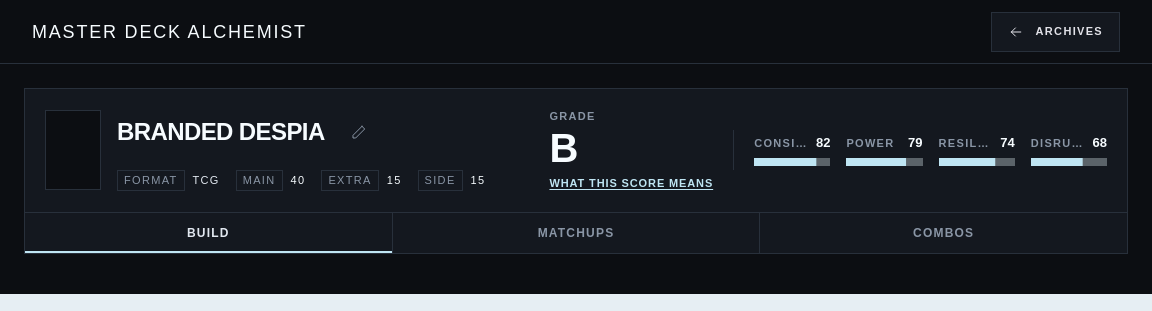
Scenario: WorkshopShell › commits a renamed deck on Enter and cancels on Escape
Click the button named "Edit deck name" at (359, 132), box x1=337 y1=110 x2=381 y2=154
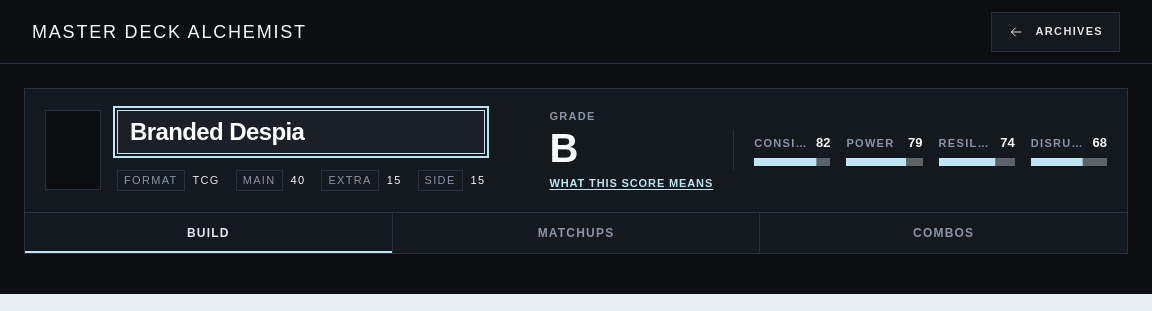
Replace the text in the field named "Deck name" with "Despia Endboard" at (301, 132), box x1=117 y1=110 x2=485 y2=154
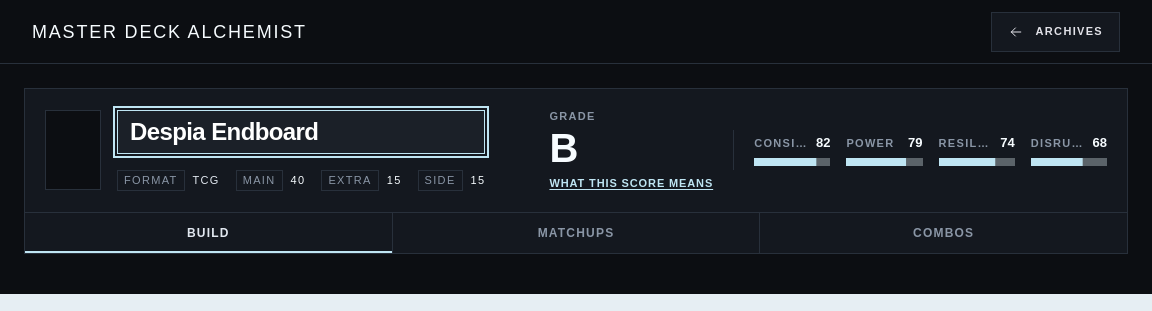
Press Enter in the field named "Deck name", box x1=117 y1=110 x2=485 y2=154
Leave the field named "Deck name", box x1=117 y1=110 x2=485 y2=154
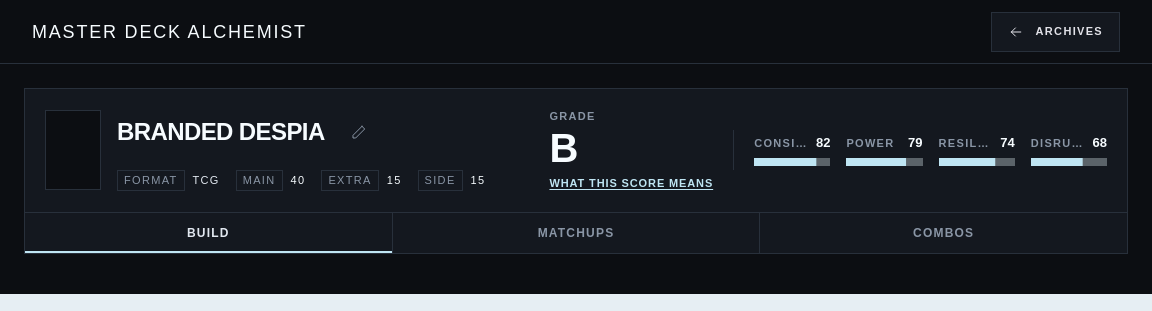
Click the button named "Edit deck name" at (359, 132), box x1=337 y1=110 x2=381 y2=154
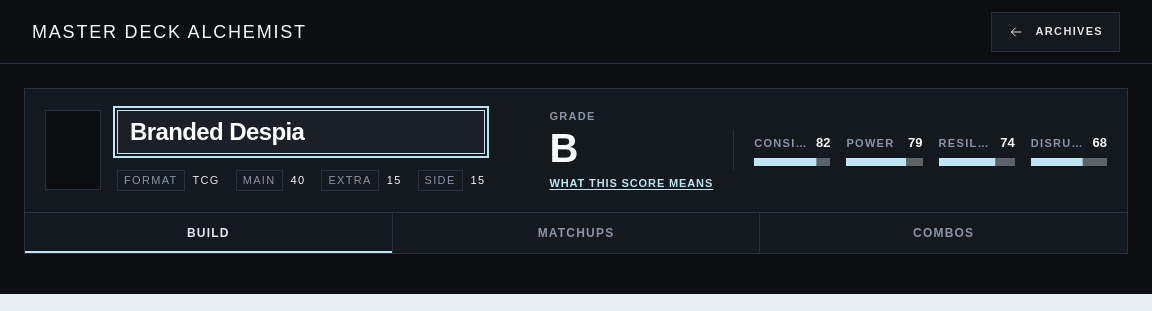
Replace the text in the field named "Deck name" with "Discarded" at (301, 132), box x1=117 y1=110 x2=485 y2=154
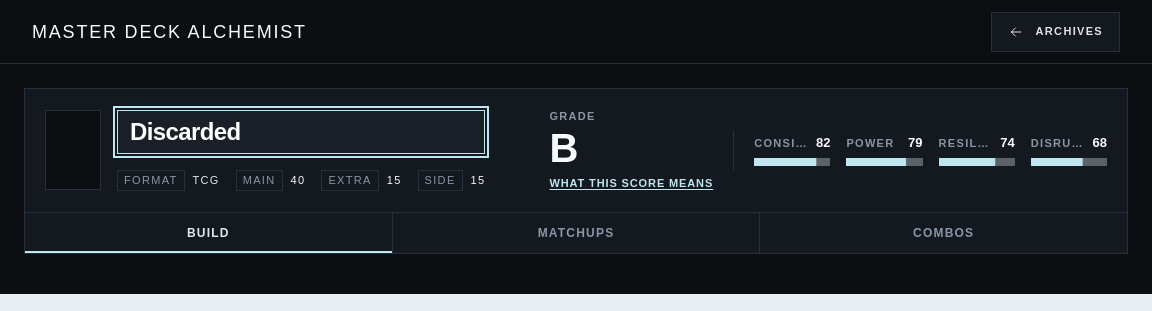
Press Escape in the field named "Deck name", box x1=117 y1=110 x2=485 y2=154
Leave the field named "Deck name", box x1=117 y1=110 x2=485 y2=154
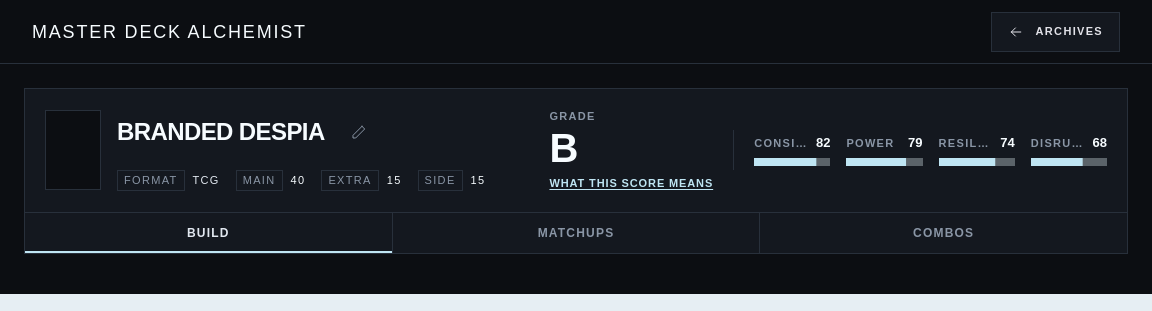
Result: the heading "Branded Despia" is shown at x1=117 y1=116 x2=325 y2=148
